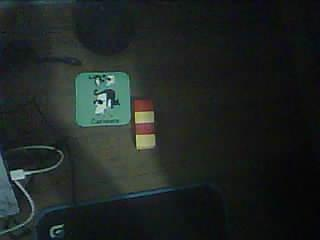lego: (133, 99, 157, 149)
